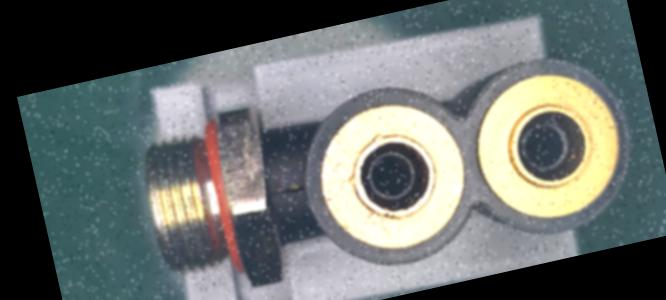craze: (266, 180, 307, 202)
